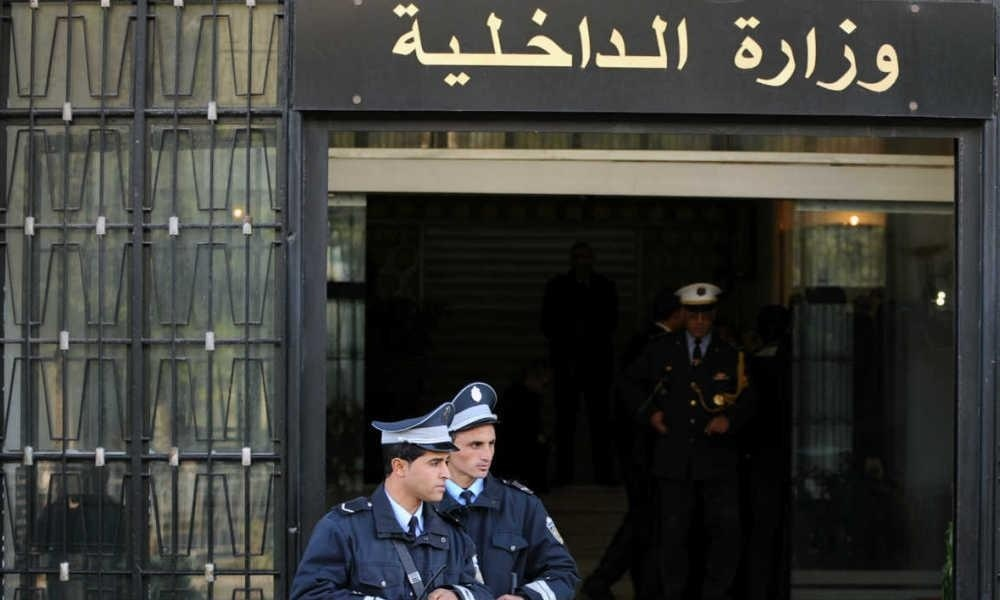text: (401, 4, 416, 90), (417, 4, 432, 90), (433, 4, 448, 90), (449, 4, 464, 90), (465, 4, 480, 90), (481, 4, 496, 90), (497, 4, 512, 90), (513, 4, 528, 90), (529, 4, 544, 90), (545, 4, 560, 90), (561, 4, 576, 90), (577, 4, 592, 90), (593, 4, 608, 90), (609, 4, 624, 90), (625, 4, 640, 90), (641, 4, 656, 90), (657, 4, 672, 90), (673, 4, 688, 90), (737, 14, 752, 97), (753, 14, 768, 97), (769, 14, 784, 97), (785, 14, 800, 97), (801, 14, 816, 97), (817, 14, 832, 97), (833, 14, 848, 97), (849, 14, 864, 97), (865, 14, 880, 97), (881, 14, 896, 97), (389, 4, 400, 90), (897, 14, 903, 97), (732, 14, 736, 97), (689, 4, 691, 90)
